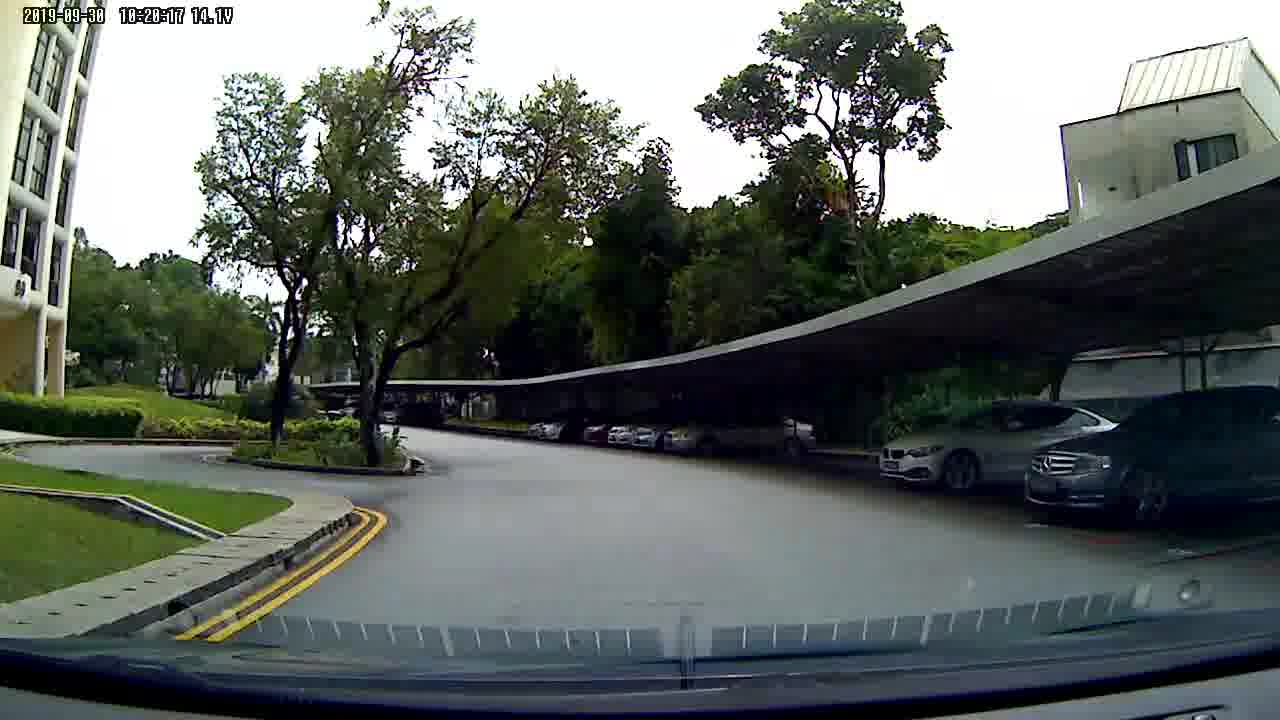car: (1027, 386, 1280, 528), (526, 408, 824, 465), (869, 400, 1024, 499)
